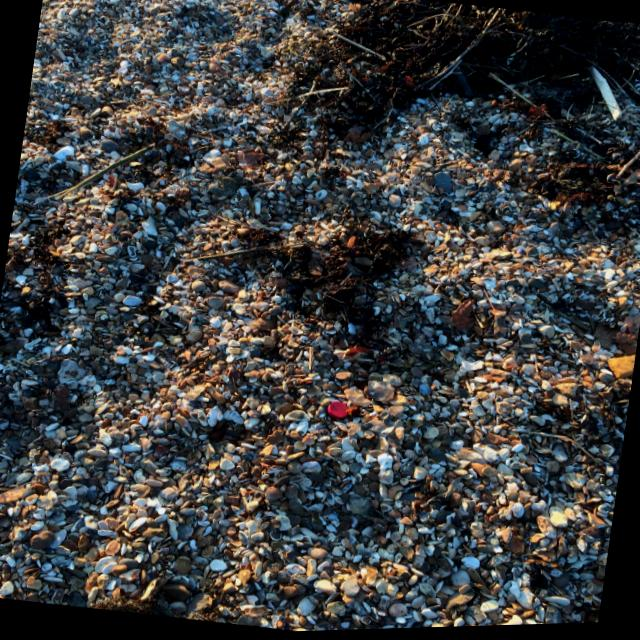Paper: (574, 63, 632, 127)
Plastic: (322, 398, 354, 425), (631, 50, 640, 80)
